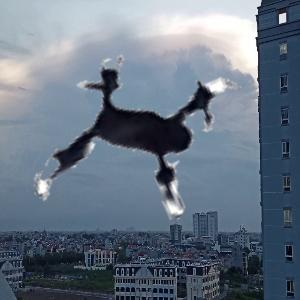drone: (15, 24, 273, 282)
